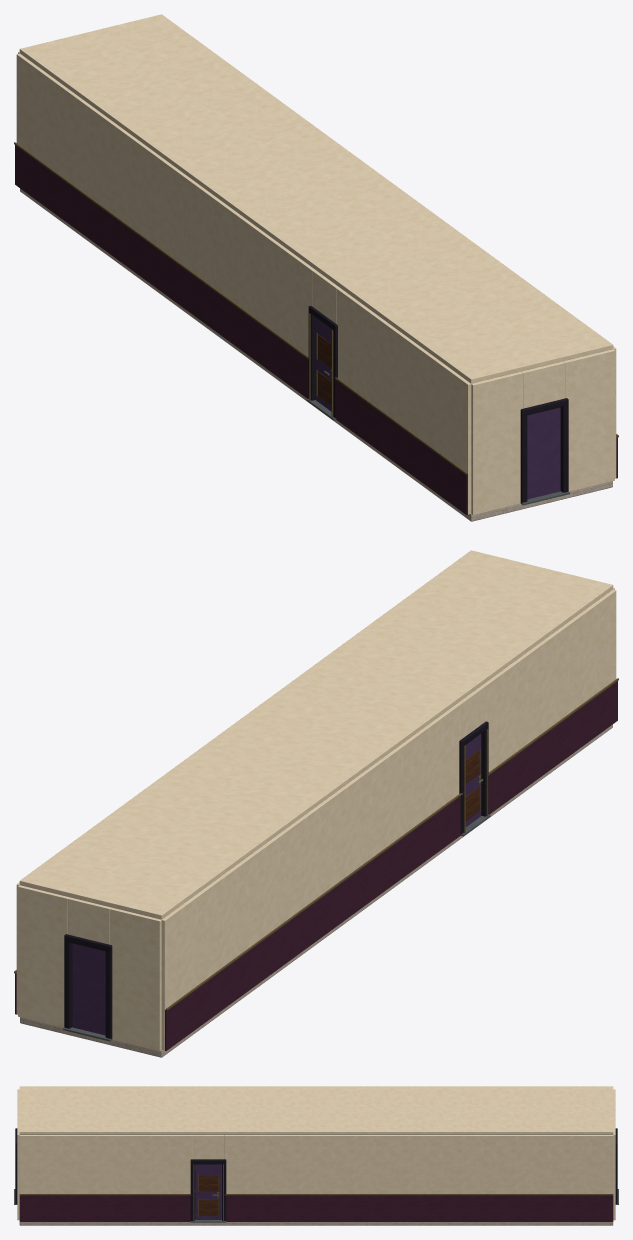
File: explore3d__lower_corridor.glb
3 views of the same model, one above another, from view 1: azimuth 30°, elevation 25°; view 2: azimuth 150°, elevation 25°; view 3: azimuth 270°, elevation 25° (orthographic). The views are drawn at different scales.
Parts seen in each view (by area): view 1: ceiling.039, wall.106, wall.107, lower_panel.105, wall.103, wall.102, lower_panel.106, front.032_leaf, lower_corridor_floor, door_lintel.025, panel_rail.105, door_lintel.027 (+2 smaller); view 2: ceiling.039, wall.106, wall.107, lower_panel.105, wall.104, wall.105, lower_panel.106, north.019_leaf, lower_corridor_floor, door_lintel.026, panel_rail.105, door_lintel.027 (+3 smaller); view 3: ceiling.039, wall.109, lower_panel.108, wall.108, lower_panel.107, lower_corridor_floor, east.019_leaf, door_lintel.028, panel_rail.108, panel_rail.107, east.019_recessed_panel, east.019_recessed_panel.001 (+4 smaller).
Part boxes in pixels (<box>): ceiling.039: <box>19,14,613,383</box>; wall.106: <box>16,53,314,356</box>; wall.107: <box>336,287,471,514</box>; lower_panel.105: <box>15,145,308,398</box>; wall.103: <box>471,371,522,515</box>; wall.102: <box>563,349,614,491</box>; lower_panel.106: <box>336,380,467,514</box>; front.032_leaf: <box>527,407,560,499</box>; lower_corridor_floor: <box>20,188,612,521</box>; door_lintel.025: <box>521,361,564,408</box>; panel_rail.105: <box>14,142,308,359</box>; door_lintel.027: <box>312,270,339,323</box>; ceiling.039: <box>19,550,613,919</box>; wall.106: <box>161,703,460,1050</box>; wall.107: <box>482,589,616,771</box>; lower_panel.105: <box>165,796,460,1050</box>; wall.104: <box>110,907,161,1051</box>; wall.105: <box>18,885,69,1027</box>; lower_panel.106: <box>488,681,617,814</box>; north.019_leaf: <box>72,943,105,1035</box>; lower_corridor_floor: <box>20,724,612,1057</box>; door_lintel.026: <box>68,897,111,944</box>; panel_rail.105: <box>166,793,463,1010</box>; door_lintel.027: <box>457,685,484,739</box>; ceiling.039: <box>19,1086,613,1134</box>; wall.109: <box>224,1135,613,1193</box>; lower_panel.108: <box>226,1195,613,1221</box>; wall.108: <box>19,1135,192,1193</box>; lower_panel.107: <box>19,1195,190,1221</box>; lower_corridor_floor: <box>19,1222,613,1225</box>; east.019_leaf: <box>195,1164,221,1219</box>; door_lintel.028: <box>192,1135,224,1159</box>; panel_rail.108: <box>225,1194,613,1195</box>; panel_rail.107: <box>19,1194,191,1195</box>; east.019_recessed_panel: <box>199,1199,218,1215</box>; east.019_recessed_panel.001: <box>199,1175,218,1191</box>.
Size of the model in its own units: 4.42 by 3.84 by 22.42.
10 materials, 9 textured.
